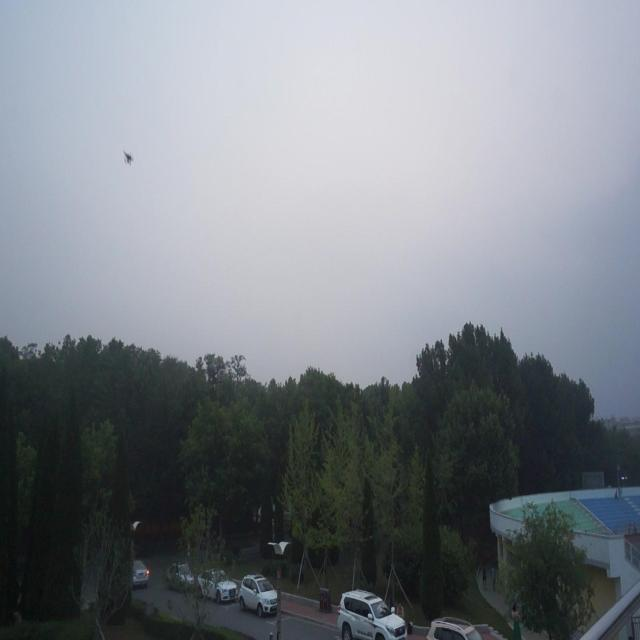drone: (122, 148, 136, 168)
